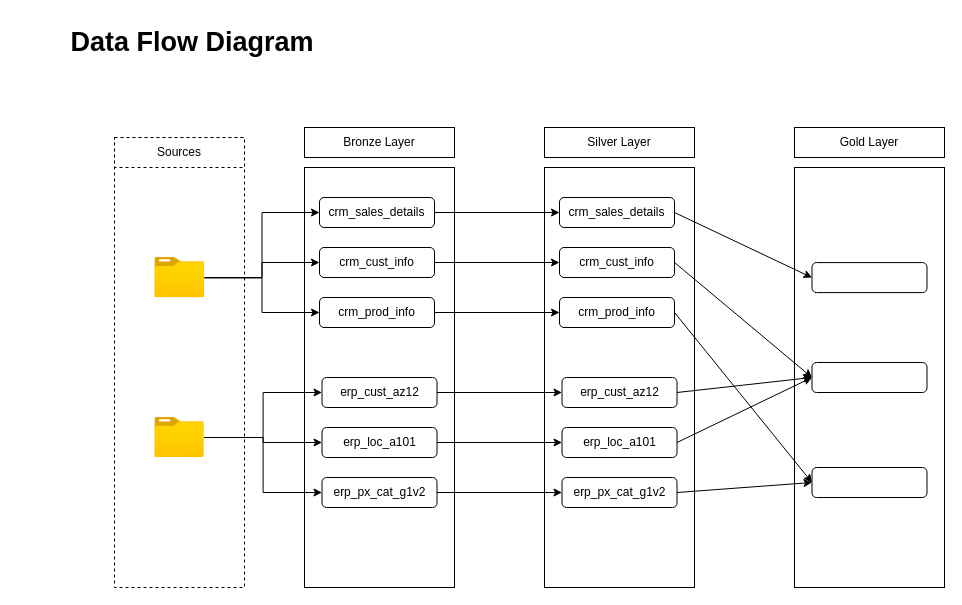
This 962x605 diagram has some shape labels left out. The box of each missing label's shape, as (x1, y1, x2, y2) in pixels:
CRM: (154, 257, 204, 297)
dim_customer: (811, 362, 927, 392)
dim_products: (811, 466, 927, 498)
ERP: (154, 417, 204, 457)
fact_sales: (811, 262, 927, 293)
